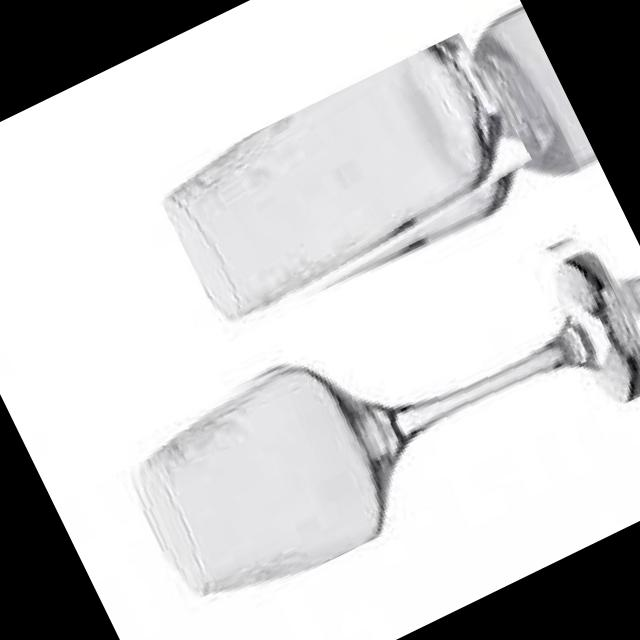Glass: (108, 215, 640, 624), (151, 27, 547, 344)
